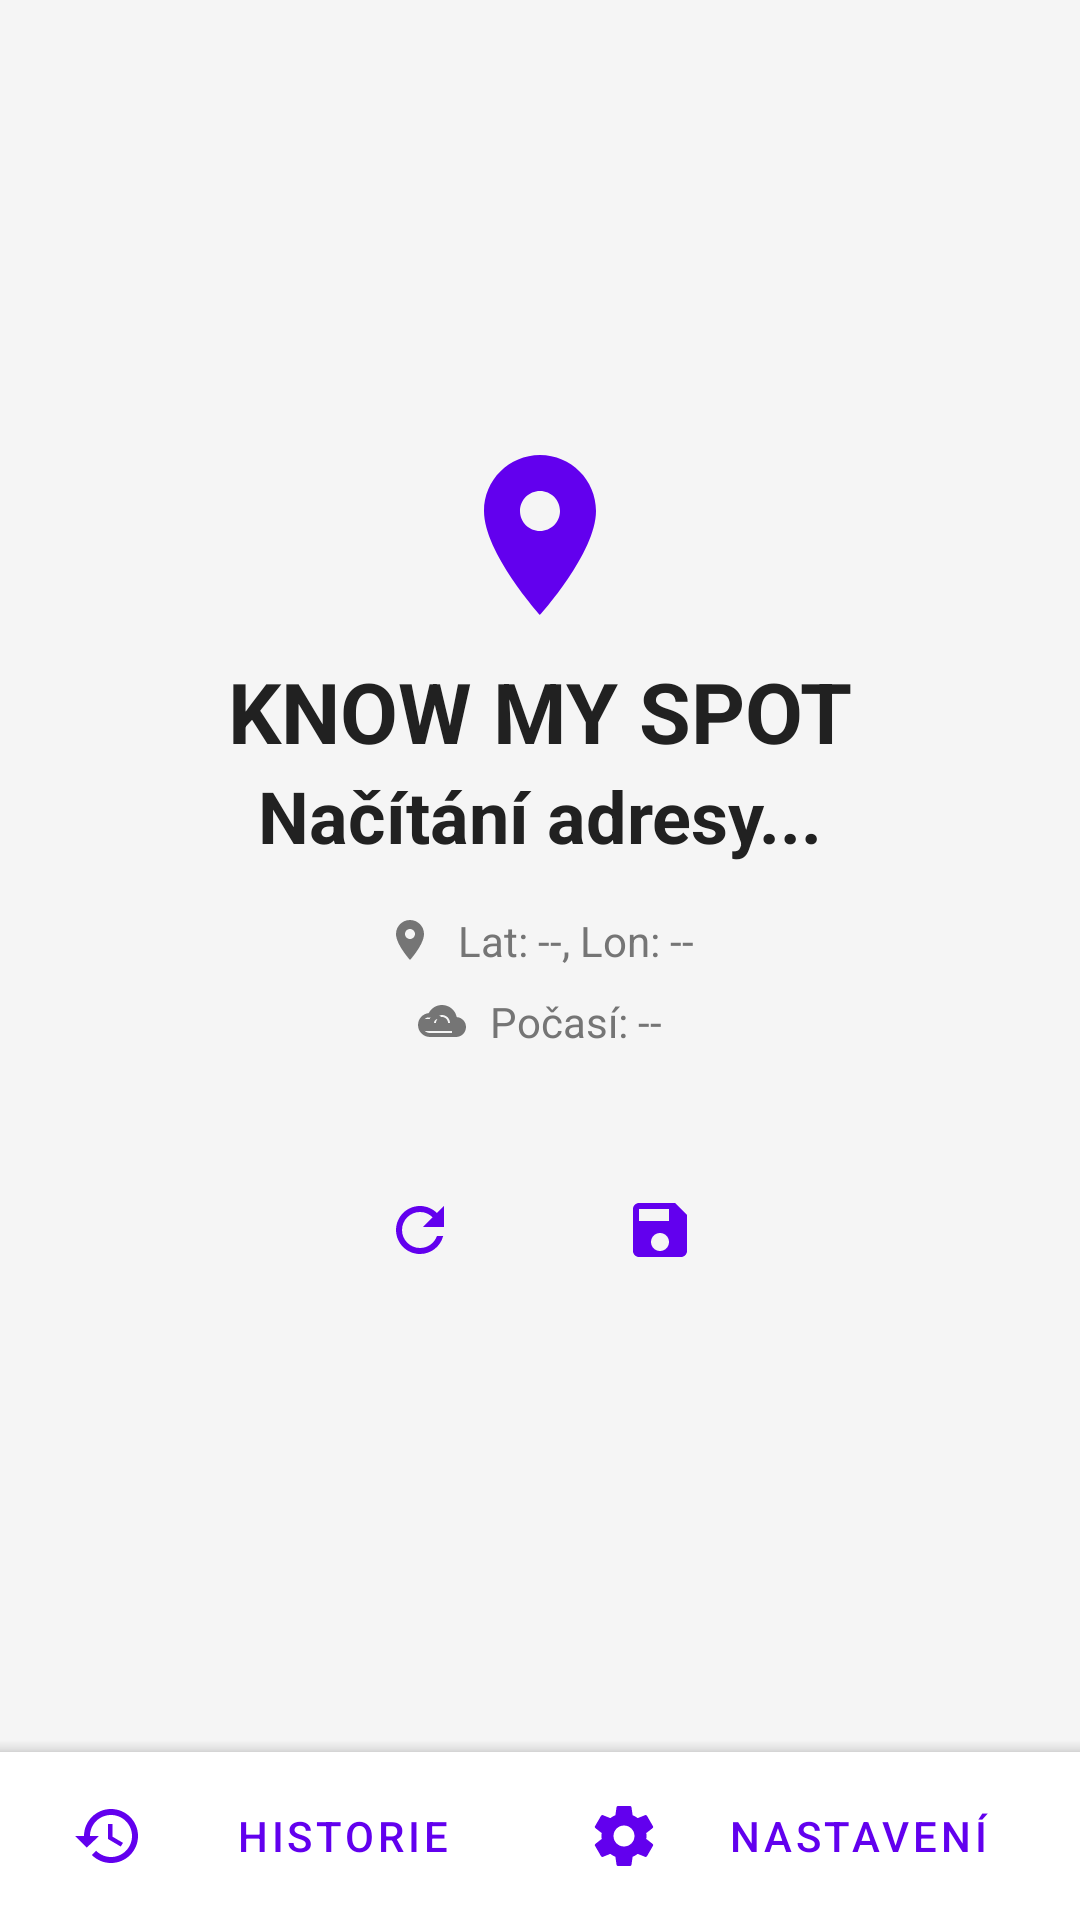

Where icons sit on this 1080w x 1920h app screen, as (x1, y1, x2, y2):
Obnovit polohu: (396, 1206, 444, 1254)
Uložit polohu: (633, 1203, 687, 1257)
weather: (418, 1005, 466, 1037)
